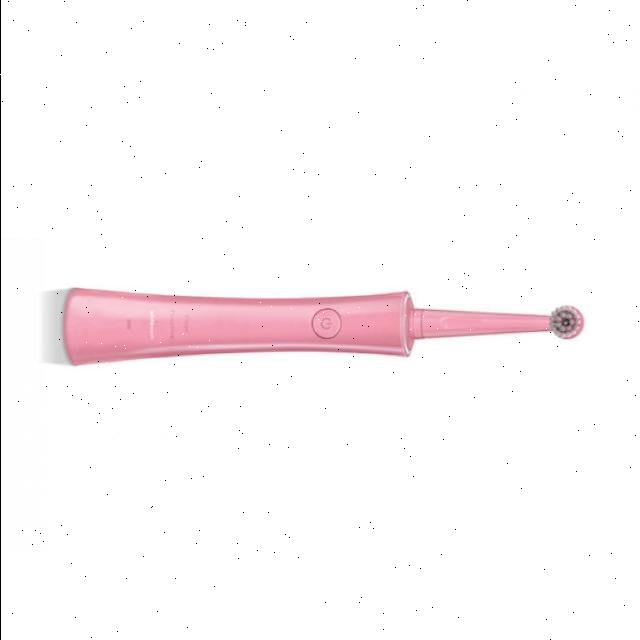toothbrush: (18, 262, 600, 390)
